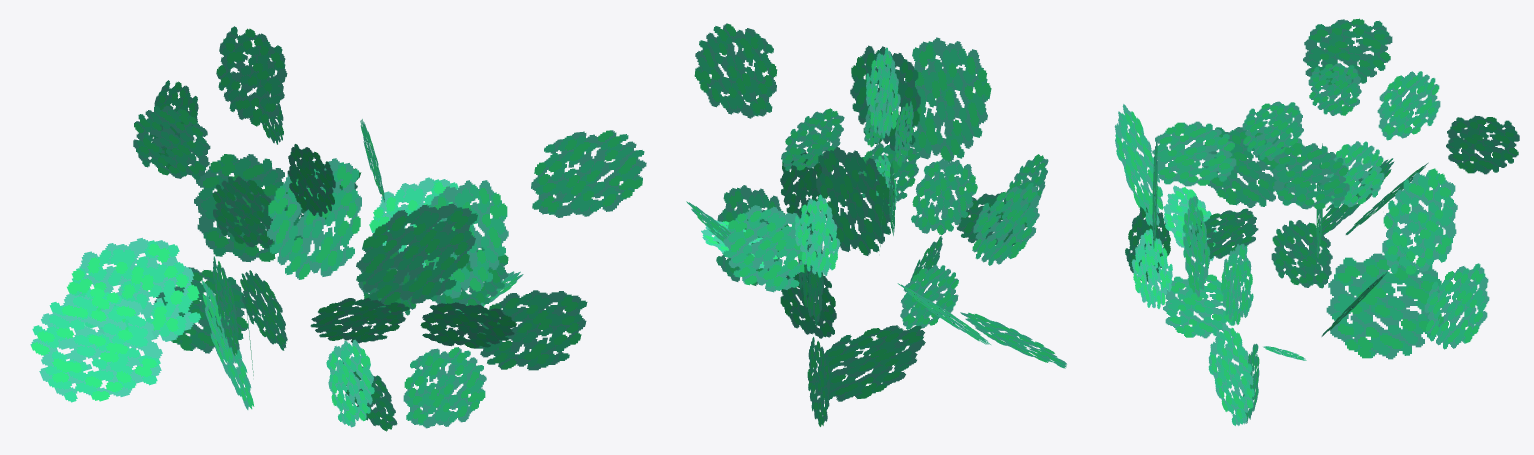
The model's file is tree_leaves.fbx.
The picture shows the model from 3 angles, left to right: view 1: azimuth 30°, elevation 25°; view 2: azimuth 150°, elevation 25°; view 3: azimuth 270°, elevation 25°; orthographic projection. The views are drawn at different scales.
Parts seen in each view (by area): view 1: Leaves; view 2: Leaves; view 3: Leaves.
Part boxes in pixels (x1,y1,x2,y2): Leaves: (30,26,646,431); Leaves: (686,23,1066,426); Leaves: (1114,18,1519,425).
Bounding box in the file's own units: 1236 × 906 × 968.
